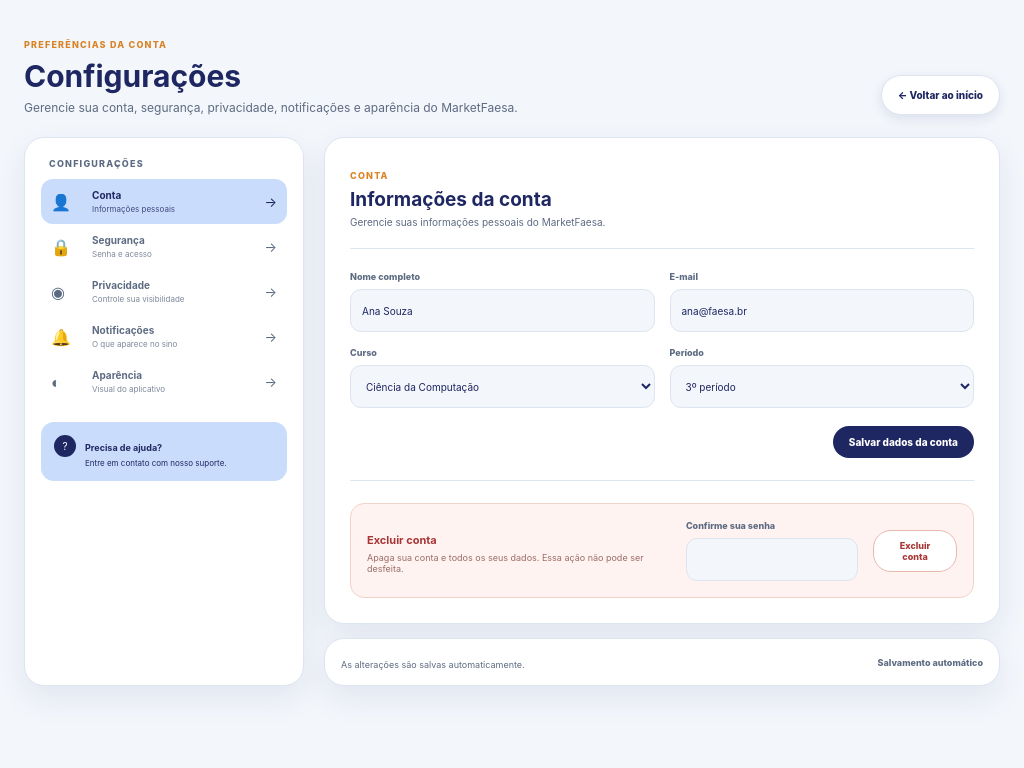
Test: Configurações › não confirma alterações quando a persistência de privacidade falha
Click the button "◉ Privacidade Controle sua visibilidade →". click: coordinates (164, 292)
box: [41,269,287,314]
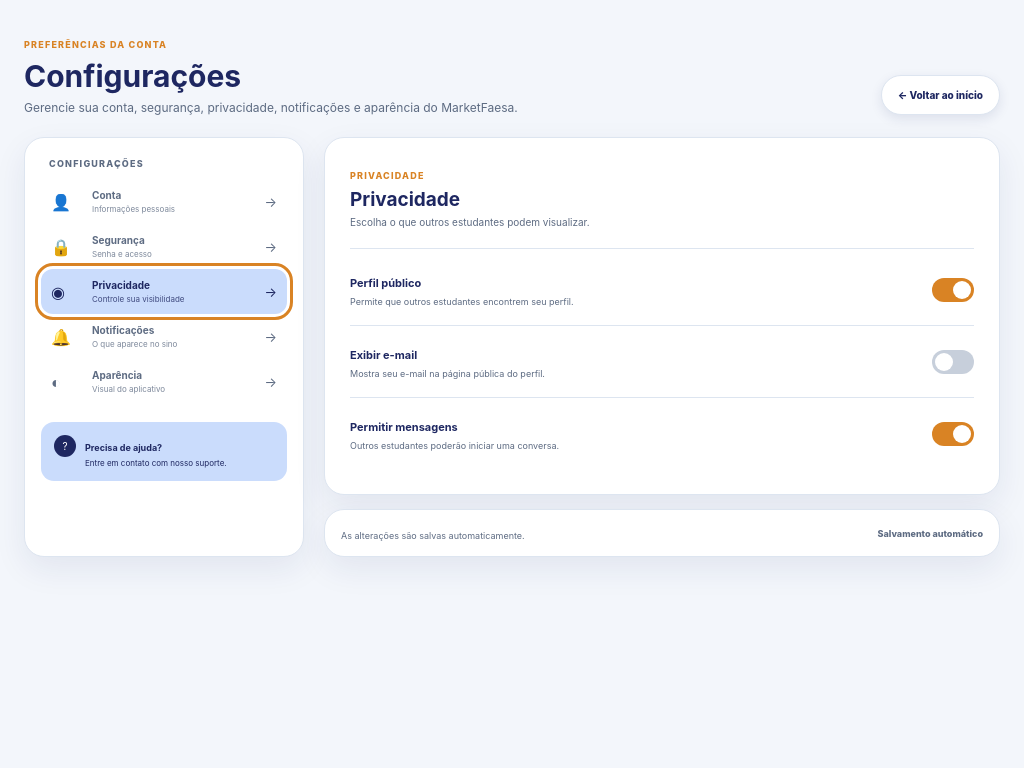
Click the switch named "Perfil público". click: coordinates (953, 290)
box: [932,278,974,302]
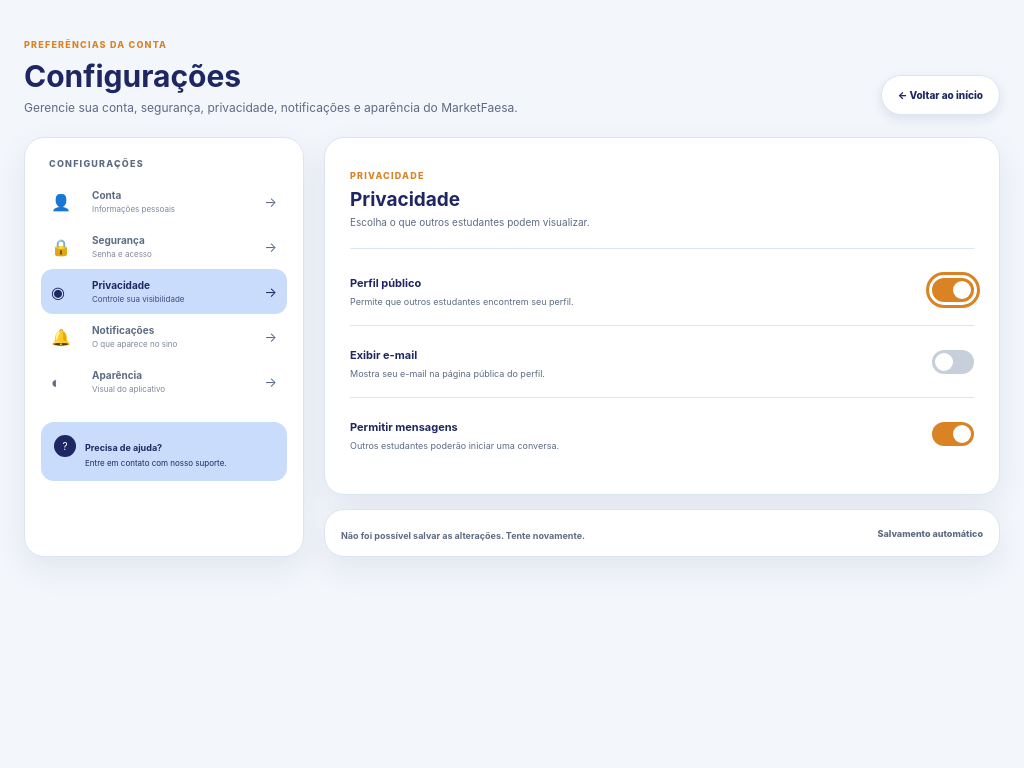
Result: the message shows "Não foi possível salvar as alterações" at [341,530,585,541]
